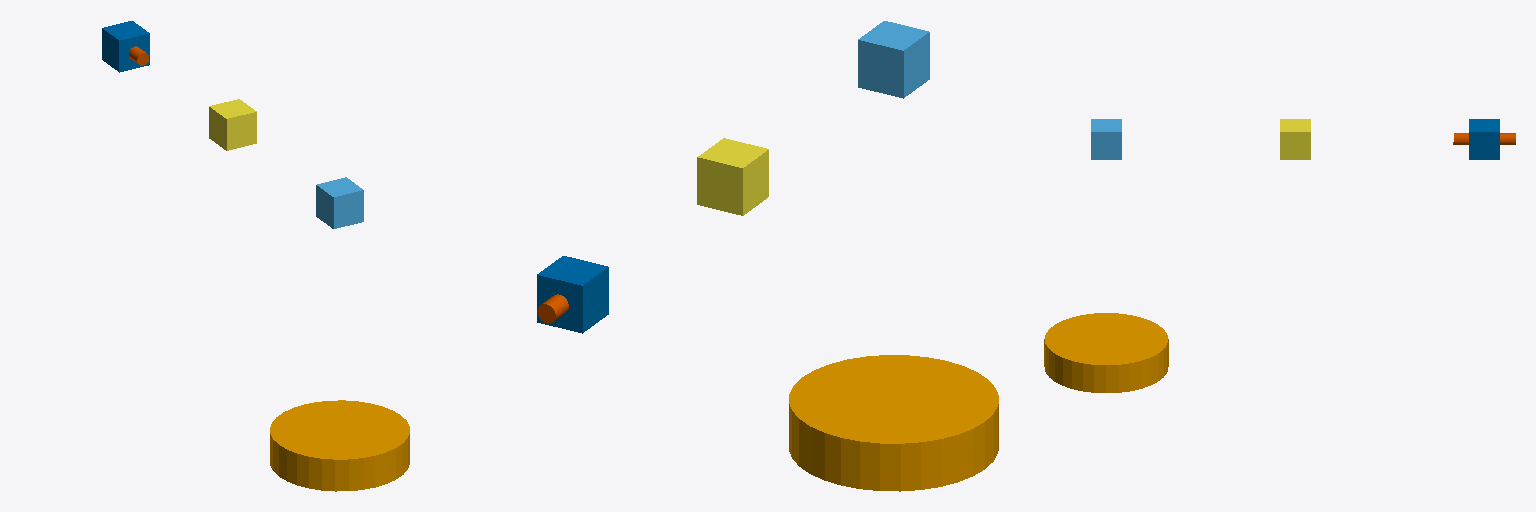
robot.urdf — ArmBot:
<!--waist link -> shoulderA link -> shoulderB link -> elbow link -> wristA link -> wristB link-->

<robot name="ArmBot">

	<!--Links-->

	
	<link name="waistLink">
		<visual>
			<origin xyz="0 0 0" rpy="0 0 0"/>
			<geometry>
				<cylinder length="0.05" radius="0.1"/>
			</geometry>
		</visual>
	</link>

	<link name="shoulderALink">
		<visual>
			<origin xyz="0 0 0.381" rpy="0 0 0"/>
			<geometry>
				<box size="0.05 0.05 0.05"/>
			</geometry>
		</visual>
	</link>

	<link name="shoulderBLink">
		<visual>
			<origin xyz="0 0 0" rpy="0 0 0"/>
			<geometry>
				<box size="0.05 0.05 0.05"/>
			</geometry>
		</visual>
	</link>

	<link name="elbowLink">
		<visual>
			<origin xyz="0 0.3048 0" rpy="0 0 0"/>
			<geometry>
				<box size="0.05 0.05 0.05"/>
			</geometry>
		</visual>
	</link>

	<link name="wristALink">
		<visual>
			<origin xyz="0 0.3048 0" rpy="0 0 0"/>
			<geometry>
				<box size="0.05 0.05 0.05"/>
			</geometry>
		</visual>
	</link>
	
	<link name="wristBLink">
		<visual>
			<origin xyz="0 0 0" rpy="1.57 0 0"/>
			<geometry>
				<cylinder length="0.1" radius="0.01"/>
			</geometry>
		</visual>
	</link>


	<!--Joints-->


	<joint name="waistJoint" type="revolute">
		<parent link="waistLink"/>
		<child link="shoulderALink"/>
		<origin xyz="0 0 0" rpy="0 0 0"/>
		<limit lower="-6.29" upper="6.29" effort="10" velocity="4"/>
		<axis xyz="0 0 1"/>
	</joint>

	<joint name="shoulderAJoint" type="revolute">
		<parent link="shoulderALink"/>
		<child link="shoulderBLink"/>
		<origin xyz="0 0 0.381" rpy="0 0 0"/>
		<limit lower="-3.1416" upper="3.1416" effort="10" velocity="4"/>
		<axis xyz="0 1 0"/>
	</joint>

	<joint name="shoulderBJoint" type="revolute">
		<parent link="shoulderBLink"/>
		<child link="elbowLink"/>
		<origin xyz="0 0 0" rpy="0 0 0"/>
		<limit lower="-1.308" upper="1.308" effort="10" velocity="4"/>
		<axis xyz="0 0 1"/>
	</joint>

	<joint name="elbowJoint" type="revolute">
		<parent link="elbowLink"/>
		<child link="wristALink"/>
		<origin xyz="0 0.3048 0" rpy="0 0 0"/>
		<limit lower="-1.308" upper="1.308" effort="10" velocity="4"/>
		<axis xyz="0 0 1"/>
	</joint>

	<joint name="wristAJoint" type="revolute">
		<parent link="wristALink"/>
		<child link="wristBLink"/>
		<origin xyz="0 0.3048 0" rpy="0 0 0"/>
		<limit lower="-1.308" upper="1.308" effort="10" velocity="4"/>
		<axis xyz="0 0 1"/>
	</joint>

</robot>

--- Render facts (derived) ---
The picture shows the robot from 3 angles, left to right: view 1: azimuth 30°, elevation 25°; view 2: azimuth 150°, elevation 25°; view 3: azimuth 270°, elevation 25°; orthographic projection.
Robot: ArmBot — 6 links, 5 joints (5 revolute); root link waistLink; default pose: every joint at zero.
Links seen in each view (by area): view 1: waistLink, elbowLink, shoulderALink, wristALink; view 2: waistLink, shoulderALink, elbowLink, wristALink, wristBLink; view 3: waistLink, shoulderALink, elbowLink, wristALink.
Link boxes in pixels (<box>): waistLink: <box>270,400,409,491</box>; elbowLink: <box>209,99,256,150</box>; shoulderALink: <box>316,177,363,228</box>; wristALink: <box>102,21,149,72</box>; waistLink: <box>789,355,998,491</box>; shoulderALink: <box>858,21,929,98</box>; elbowLink: <box>697,138,768,215</box>; wristALink: <box>537,256,608,333</box>; wristBLink: <box>537,294,568,323</box>; waistLink: <box>1044,313,1168,392</box>; shoulderALink: <box>1091,119,1121,159</box>; elbowLink: <box>1280,119,1310,159</box>; wristALink: <box>1469,119,1499,159</box>.
Bounding box of the posed robot: 0.2 × 0.7596 × 0.431 m (x, y, z).
Geometry: primitives only (box / cylinder / sphere), no mesh files.